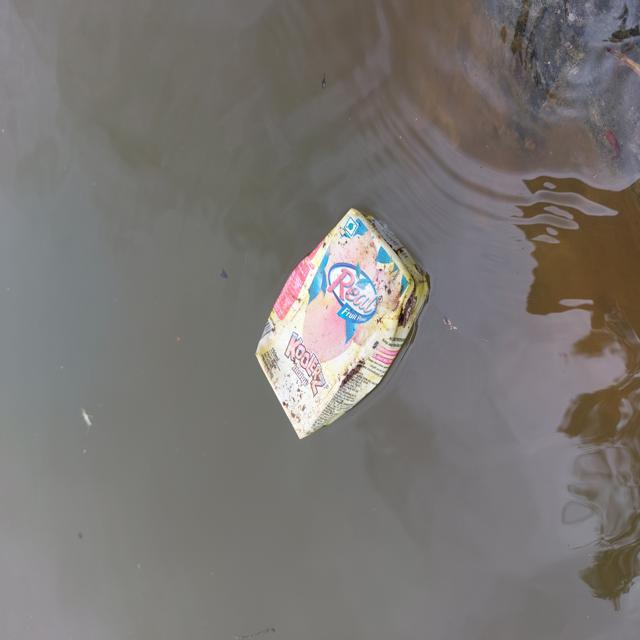paper: (214, 196, 434, 442)
